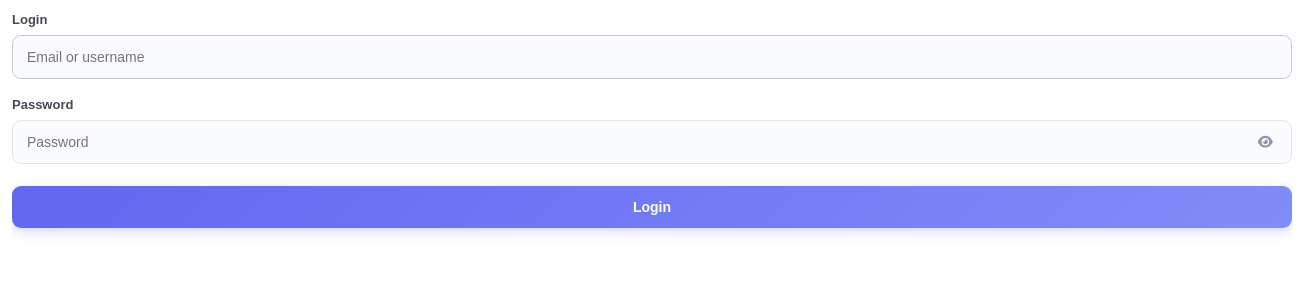
it: LoginForm › Form submission › shows a fallback message when authentication rejects with a non-Error
Step 1. Type "alexj" into the field with test id "login-input" → point(652, 57), box 12,35 -> 1292,79
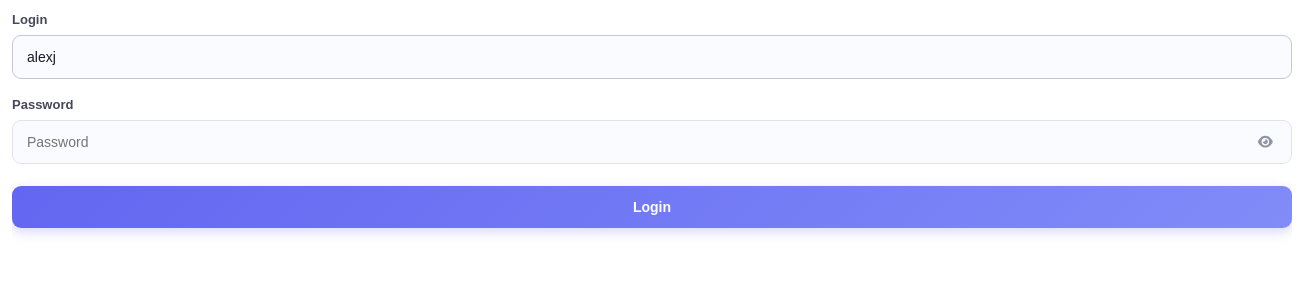
Step 2. Type "secret123" into the password field with test id "password-input" → point(652, 142), box 12,120 -> 1292,164
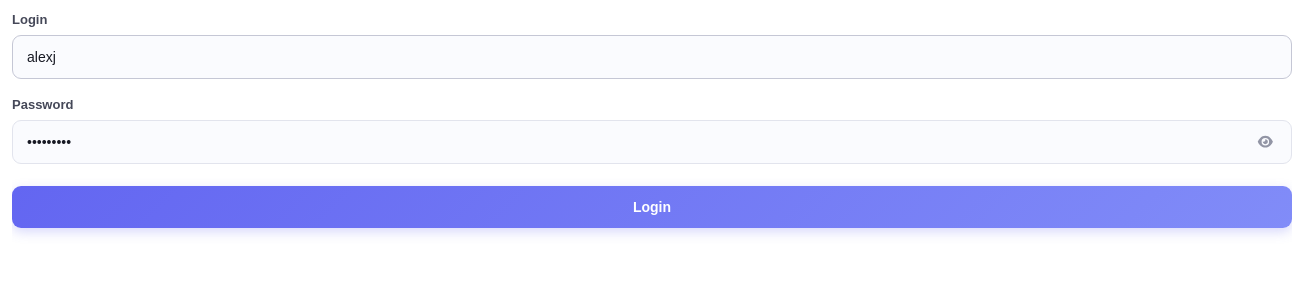
Step 3. Click the button with test id "login-submit" → point(652, 207), box 12,186 -> 1292,228
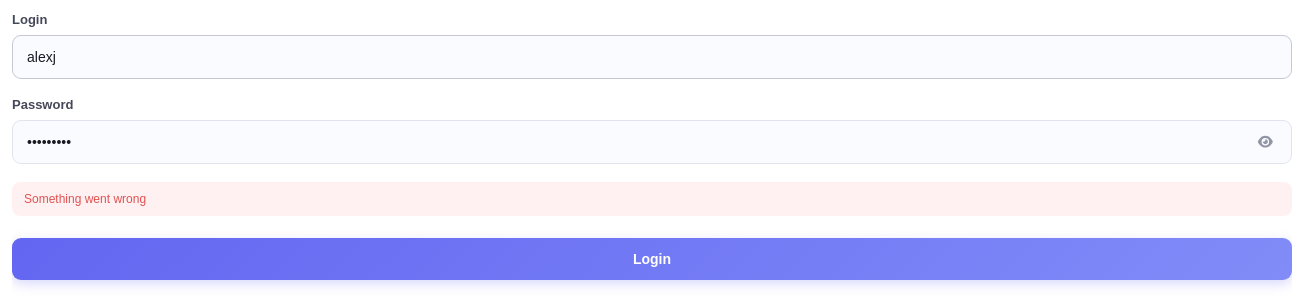
Check: the text with test id "login-server-error" reads "Something went wrong", box 24,192 -> 146,206
